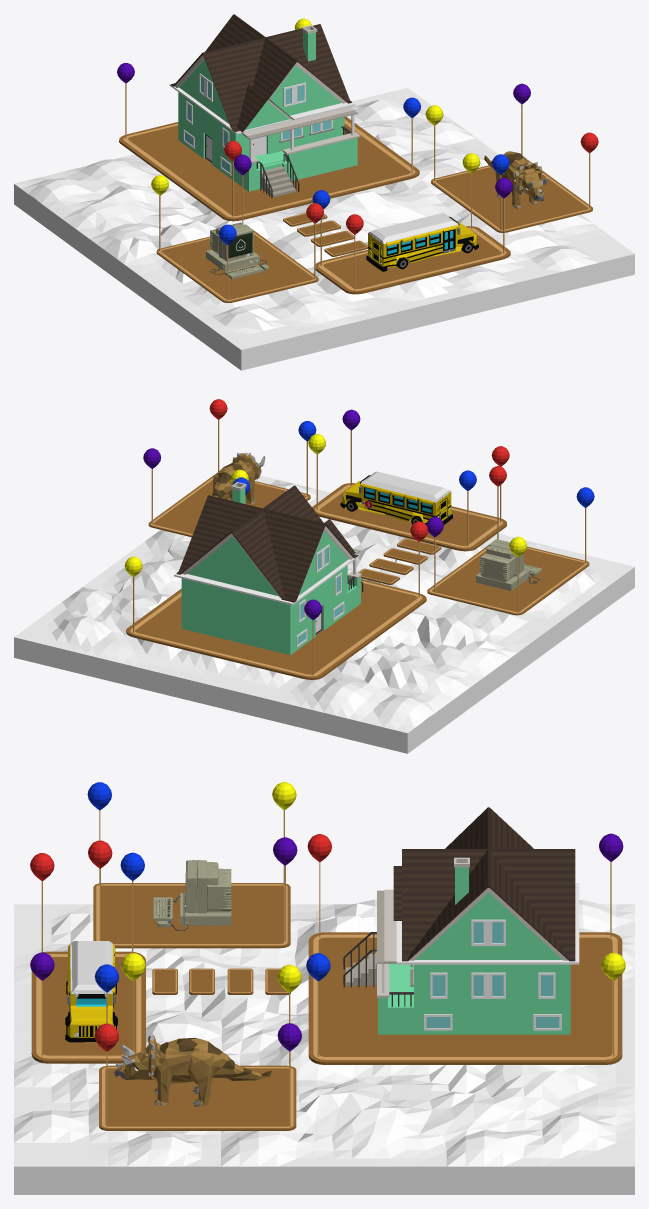
The picture shows the model from 3 angles, top to bottom: view 1: azimuth 30°, elevation 25°; view 2: azimuth 150°, elevation 25°; view 3: azimuth 270°, elevation 25°; orthographic projection. The views are drawn at different scales.
Visible parts, largest first — view 1: Cube.013, Cube.352, VEHICLES_SCHOOL_BUS, OBJRANDOM_RETRO_PC, ANIMAL_Triceratops; view 2: Cube.013, Cube.352, VEHICLES_SCHOOL_BUS, OBJRANDOM_RETRO_PC, ANIMAL_Triceratops; view 3: Cube.013, Cube.352, ANIMAL_Triceratops, VEHICLES_SCHOOL_BUS, OBJRANDOM_RETRO_PC.
Boxes of the visible parts, <box> form: Cube.013: <box>14,18,634,370</box>; Cube.352: <box>169,14,360,198</box>; VEHICLES_SCHOOL_BUS: <box>366,213,478,271</box>; OBJRANDOM_RETRO_PC: <box>206,222,268,279</box>; ANIMAL_Triceratops: <box>484,151,547,208</box>; Cube.013: <box>14,399,634,753</box>; Cube.352: <box>174,482,363,655</box>; VEHICLES_SCHOOL_BUS: <box>340,471,452,524</box>; OBJRANDOM_RETRO_PC: <box>476,539,541,590</box>; ANIMAL_Triceratops: <box>212,452,265,503</box>; Cube.013: <box>14,782,634,1194</box>; Cube.352: <box>343,807,579,1034</box>; ANIMAL_Triceratops: <box>114,1033,272,1106</box>; VEHICLES_SCHOOL_BUS: <box>65,941,117,1042</box>; OBJRANDOM_RETRO_PC: <box>153,860,231,930</box>.
Bounding box in the file's own units: 4000 × 1687 × 4000.
Materials: 40 (1 with a texture image).
